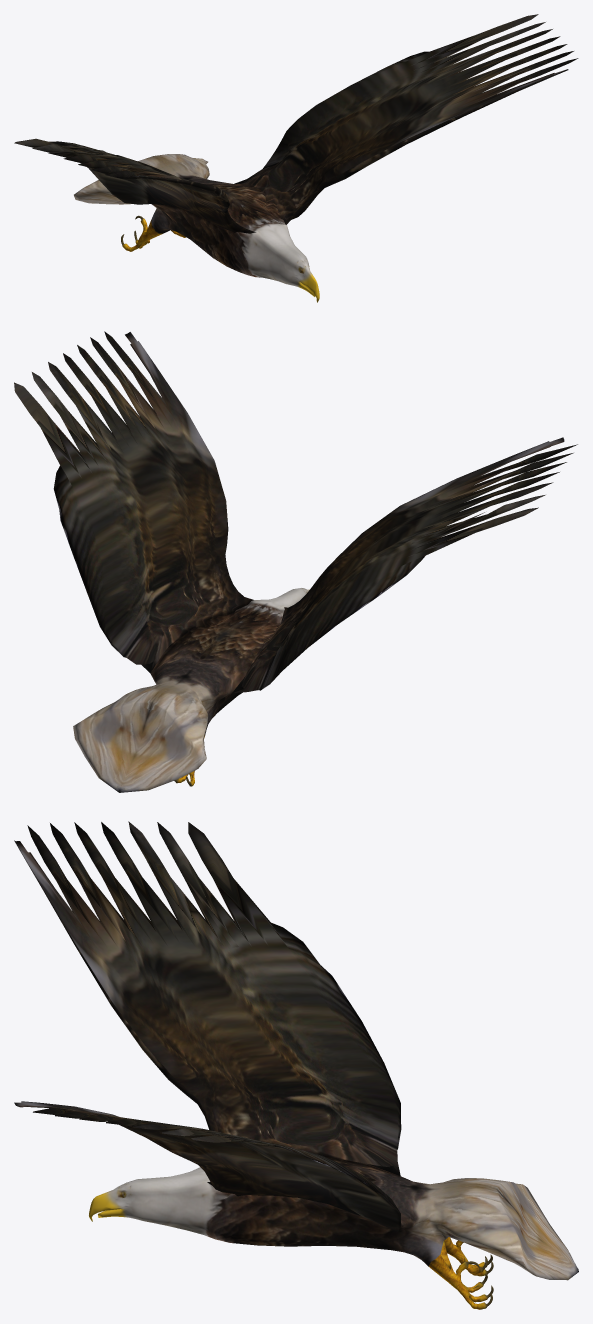
The model's file is Birdo.fbx.
3 renders of one model, top to bottom at view 1: azimuth 30°, elevation 25°; view 2: azimuth 150°, elevation 25°; view 3: azimuth 270°, elevation 25°, orthographic. The views are drawn at different scales.
Visible parts, largest first — view 1: Flugel; view 2: Flugel; view 3: Flugel.
Part boxes in pixels (bbox=[...]): Flugel: bbox=[14, 14, 578, 302]; Flugel: bbox=[14, 331, 577, 792]; Flugel: bbox=[14, 821, 578, 1309].
Bounding box in the file's own units: 922 × 435 × 694.
1 material, 1 textured.
